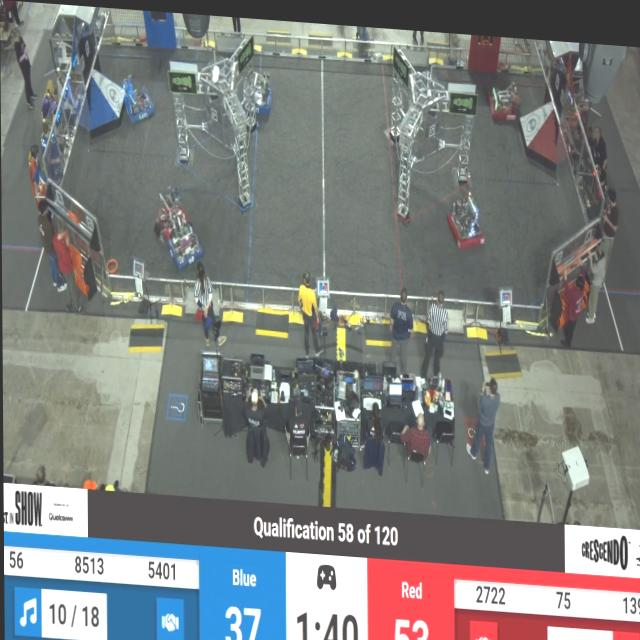Robot: (446, 172, 487, 248), (236, 57, 274, 120), (151, 180, 188, 244), (166, 212, 206, 270), (488, 66, 523, 120), (122, 74, 155, 127)
